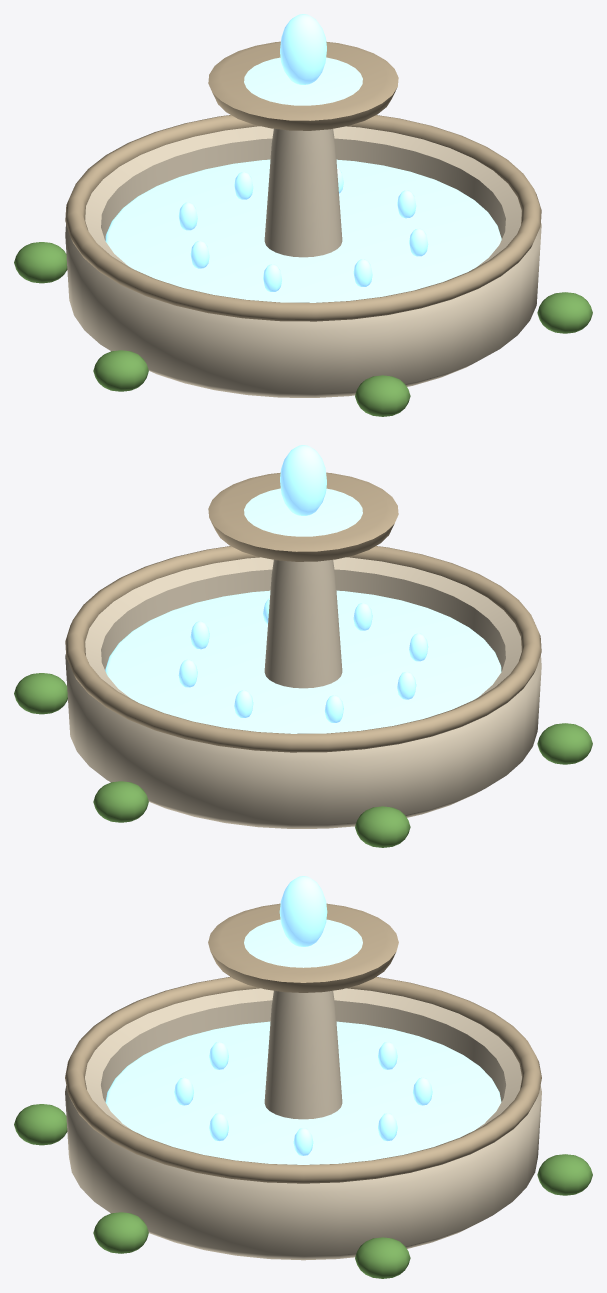
The model's file is ow_fountain.glb.
3 renders of one model, top to bottom at view 1: azimuth 30°, elevation 25°; view 2: azimuth 150°, elevation 25°; view 3: azimuth 270°, elevation 25°, orthographic.
Visible parts, largest first — view 1: OwFountain; view 2: OwFountain; view 3: OwFountain.
Boxes of the visible parts, x1,y1,x2,y2 form: OwFountain: [14, 14, 592, 416]; OwFountain: [14, 445, 592, 847]; OwFountain: [14, 876, 592, 1278].
Bounding box in the file's own units: 2.86 × 1.61 × 2.91.
